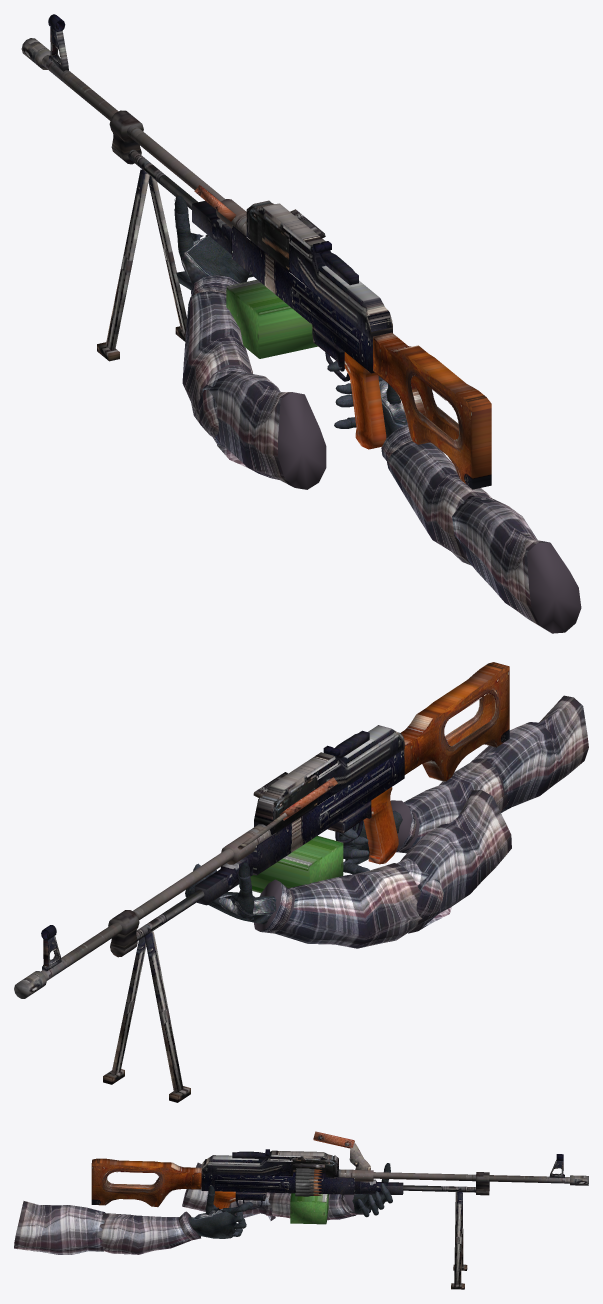
Rendered from pkm_view.fbx.
3 renders of one model, top to bottom at view 1: azimuth 30°, elevation 25°; view 2: azimuth 150°, elevation 25°; view 3: azimuth 270°, elevation 25°, orthographic. The views are drawn at different scales.
Visible parts, largest first — view 1: pkm, larm, rupperarm, rforearm, lhand, rhand; view 2: pkm, larm, rupperarm, rforearm, lhand; view 3: pkm, rupperarm, rforearm, larm, rhand, lhand.
Boxes of the visible parts, x1,y1,x2,y2 form: pkm: (21,14,491,489); larm: (182,275,326,489); rupperarm: (452,496,581,633); rforearm: (381,424,491,565); lhand: (174,195,253,289); rhand: (379,380,407,437); pkm: (14,662,509,1102); larm: (253,790,511,948); rupperarm: (471,695,588,812); rforearm: (390,758,507,853); lhand: (185,862,276,924); pkm: (91,1131,588,1289); rupperarm: (14,1201,105,1254); rforearm: (97,1211,200,1254); larm: (182,1162,363,1220); rhand: (188,1208,236,1238); lhand: (349,1163,392,1217).
Size of the model in its own units: 11.39 by 15.47 by 61.48.
